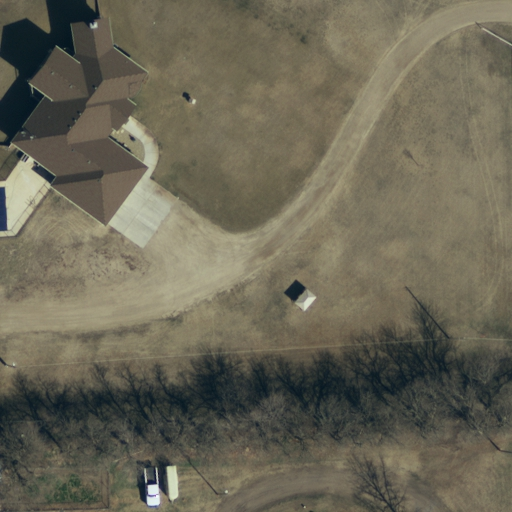DT: (441, 329, 468, 350), (1, 359, 22, 375)
